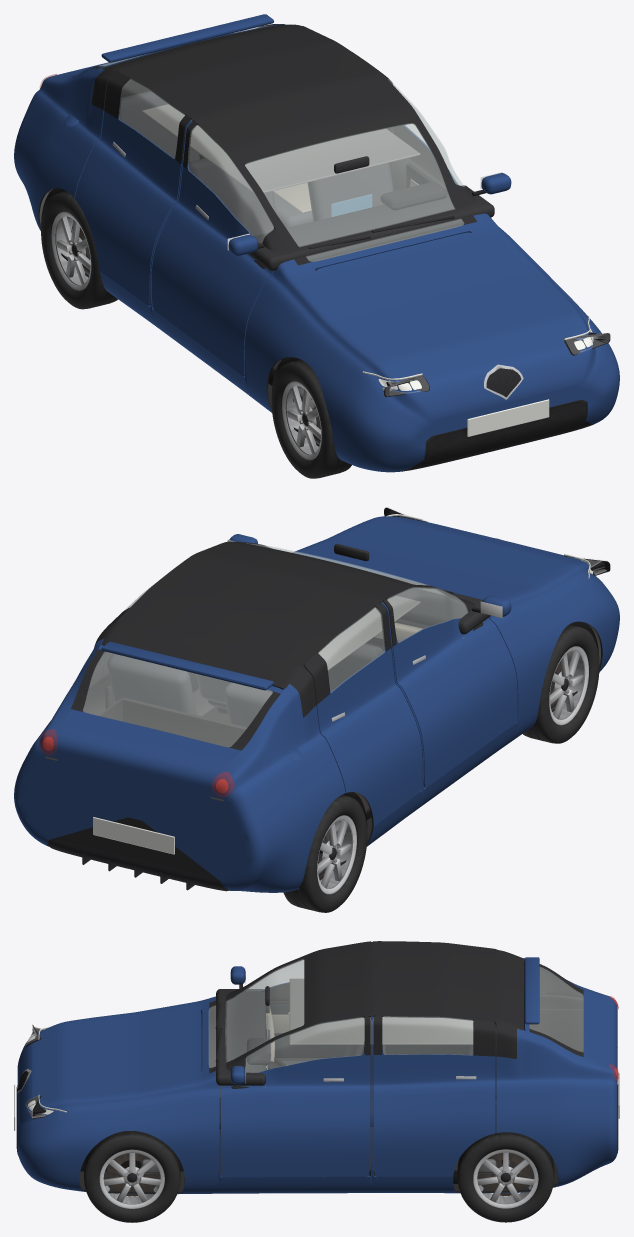
Rendered from ypsilon.glb.
3 renders of one model, top to bottom at view 1: azimuth 30°, elevation 25°; view 2: azimuth 150°, elevation 25°; view 3: azimuth 270°, elevation 25°, orthographic. The views are drawn at different scales.
Parts seen in each view (by area): view 1: Body, Hood, Windshield, Door_FR, Door_RR, Headliner, Dash_Top, Door_FR_Glass, Wheel_FR_Tire, Wheel_RR_Tire, Door_RR_Glass, Grille1_Mesh (+14 smaller); view 2: Body, Door_FR, Door_RR, Tailgate, Tailgate_Glass, Hood, Wheel_RR_Tire, Seat_RL_Back, Wheel_FR_Tire, Door_RR_Glass, Boot_Back, Door_FR_Glass (+12 smaller); view 3: Body, Door_FL, Door_RL, Hood, Windshield, Headliner, Wheel_FL_Tire, Wheel_RL_Tire, Door_FL_Glass, Dash_Top, Door_RL_Glass, Tailgate (+12 smaller).
Part boxes in pixels (x1=…): Body: x1=14, y1=24, x2=619, y2=472; Hood: x1=316, y1=232, x2=564, y2=379; Windshield: x1=245, y1=123, x2=463, y2=261; Door_FR: x1=151, y1=121, x2=286, y2=376; Door_RR: x1=75, y1=72, x2=190, y2=305; Headliner: x1=142, y1=104, x2=420, y2=194; Dash_Top: x1=248, y1=185, x2=494, y2=270; Door_FR_Glass: x1=188, y1=125, x2=273, y2=243; Wheel_FR_Tire: x1=271, y1=359, x2=351, y2=478; Wheel_RR_Tire: x1=41, y1=191, x2=117, y2=309; Door_RR_Glass: x1=119, y1=79, x2=184, y2=158; Grille1_Mesh: x1=427, y1=402, x2=585, y2=460; Body: x1=14, y1=516, x2=619, y2=892; Door_FR: x1=383, y1=596, x2=517, y2=787; Door_RR: x1=304, y1=603, x2=422, y2=826; Tailgate: x1=58, y1=645, x2=282, y2=812; Tailgate_Glass: x1=83, y1=652, x2=272, y2=746; Hood: x1=318, y1=521, x2=563, y2=596; Wheel_RR_Tire: x1=283, y1=794, x2=367, y2=912; Seat_RL_Back: x1=107, y1=654, x2=196, y2=714; Wheel_FR_Tire: x1=523, y1=624, x2=599, y2=743; Door_RR_Glass: x1=318, y1=607, x2=384, y2=692; Boot_Back: x1=122, y1=697, x2=246, y2=747; Door_FR_Glass: x1=387, y1=587, x2=467, y2=642; Body: x1=17, y1=941, x2=617, y2=1194; Door_FL: x1=220, y1=1016, x2=370, y2=1177; Door_RL: x1=373, y1=1016, x2=495, y2=1176; Hood: x1=32, y1=1010, x2=201, y2=1097; Windshield: x1=209, y1=959, x2=303, y2=1067; Headliner: x1=289, y1=978, x2=473, y2=1044; Wheel_FL_Tire: x1=84, y1=1131, x2=180, y2=1222; Wheel_RL_Tire: x1=457, y1=1131, x2=554, y2=1222; Door_FL_Glass: x1=246, y1=1017, x2=364, y2=1072; Dash_Top: x1=216, y1=989, x2=265, y2=1085; Door_RL_Glass: x1=382, y1=1016, x2=473, y2=1055; Tailgate: x1=524, y1=960, x2=617, y2=1069.
Size of the model in its own units: 1.76 by 1.46 by 4.12.
